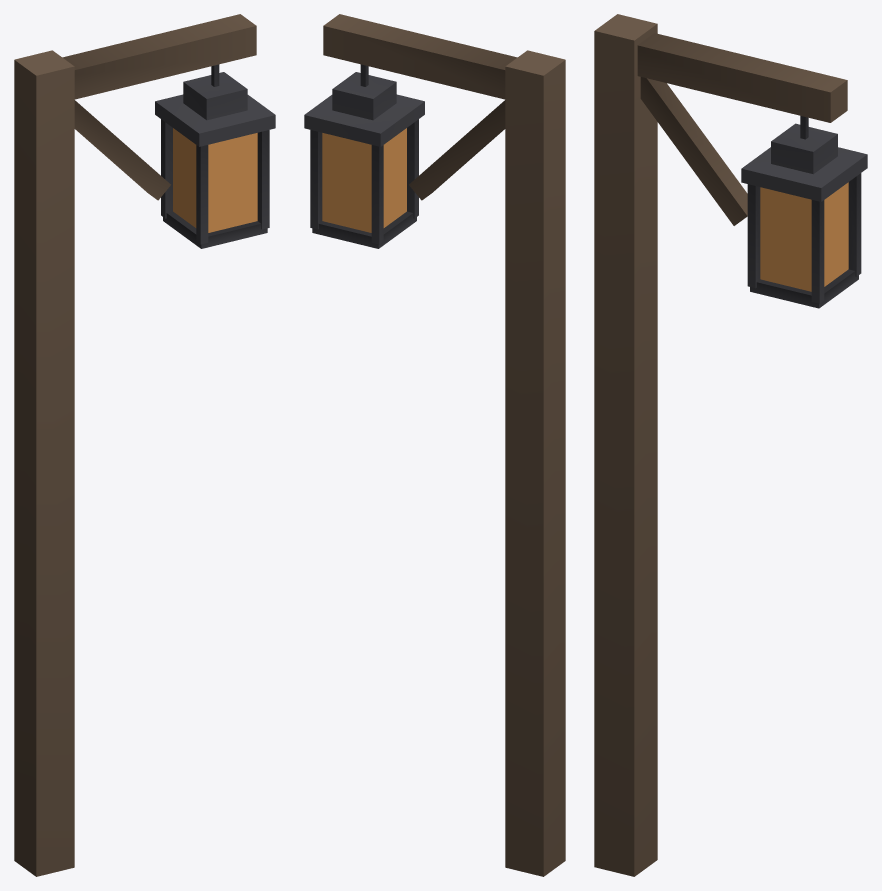
Rendered from beyond_lamp.glb.
3 views of the same model, side by side, from view 1: azimuth 30°, elevation 25°; view 2: azimuth 150°, elevation 25°; view 3: azimuth 330°, elevation 25° (orthographic). The views are drawn at different scales.
Visible parts, largest first — view 1: beyond_lamp, beyond_lamp_glow; view 2: beyond_lamp, beyond_lamp_glow; view 3: beyond_lamp, beyond_lamp_glow.
Boxes of the visible parts, <box> form: beyond_lamp: <box>14,14,275,876</box>; beyond_lamp_glow: <box>173,128,257,232</box>; beyond_lamp: <box>304,14,565,876</box>; beyond_lamp_glow: <box>322,128,406,232</box>; beyond_lamp: <box>594,14,867,876</box>; beyond_lamp_glow: <box>760,182,848,291</box>.
Bounding box in the file's own units: 0.895 × 3 × 0.3.
